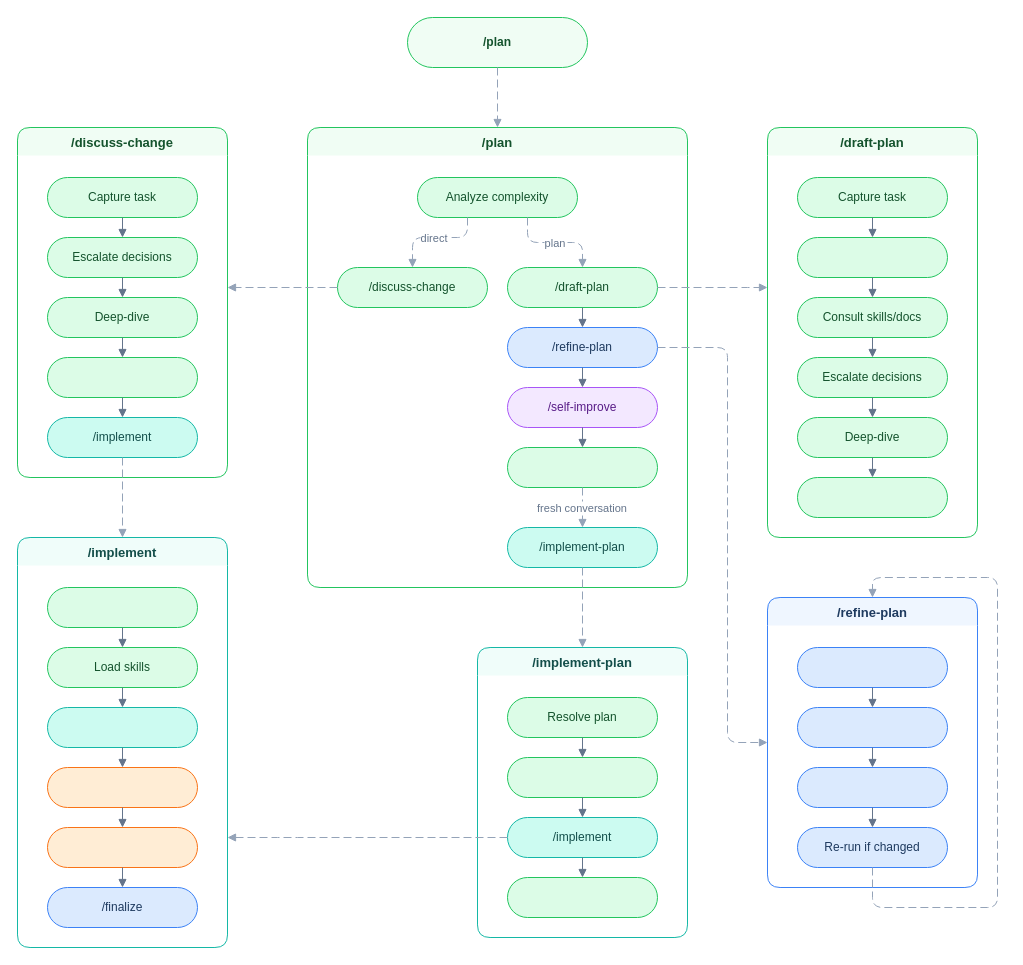
Some shapes in this 1023 by 965 pixel diagram are drawn without their labels. The centre of each missing label's shape, as x and y in pixels:
/apply-findings: (x=872, y=787)
/code-style: (x=122, y=607)
/evaluate-findings: (x=872, y=727)
/preview: (x=122, y=847)
/review-plan: (x=872, y=667)
/smoke-test: (x=122, y=787)
/survey-patterns: (x=872, y=257)
Confirm shape: (x=122, y=377)
Confirm with user: (x=582, y=467)
Draft plan file: (x=872, y=497)
Implement: (x=122, y=727)
Read context: (x=582, y=777)
Update status: (x=582, y=897)
